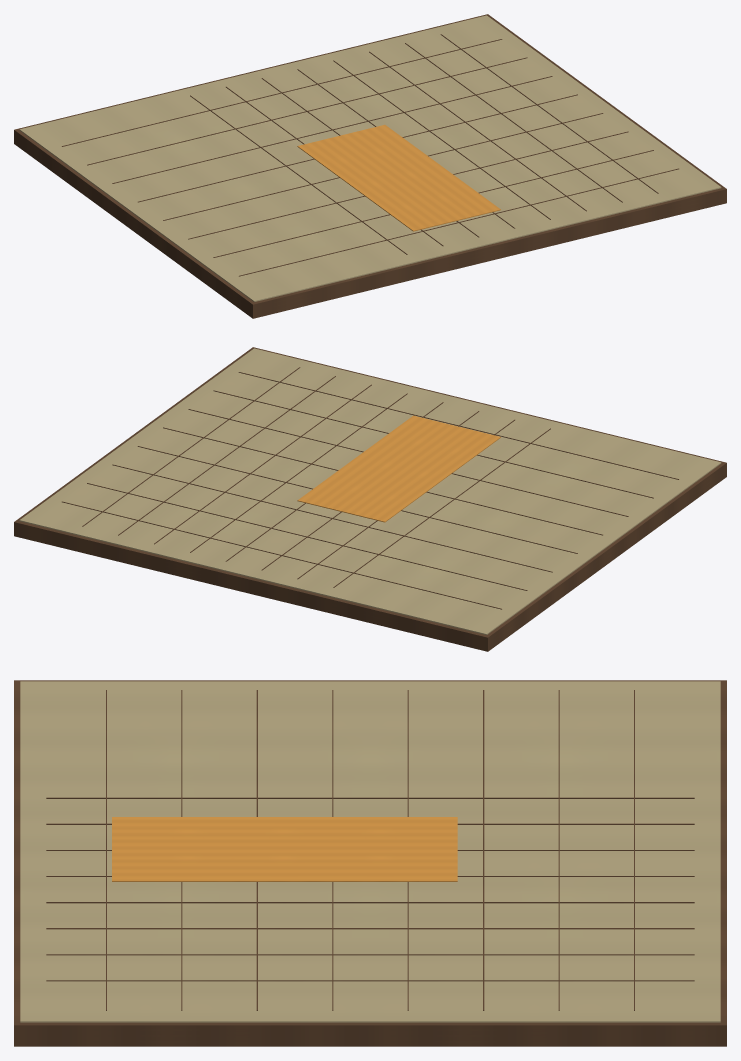
The model's file is atlas100-s012-a07.lod1.glb.
3 renders of one model, top to bottom at view 1: azimuth 30°, elevation 25°; view 2: azimuth 150°, elevation 25°; view 3: azimuth 270°, elevation 25°, orthographic. The views are drawn at different scales.
Visible parts, largest first — view 1: atlas100-s012-a07:part-001, atlas100-s012-a07:part-000, atlas100-s012-a07:part-021, atlas100-s012-a07:part-020, atlas100-s012-a07:part-013, atlas100-s012-a07:part-014, atlas100-s012-a07:part-015, atlas100-s012-a07:part-019, atlas100-s012-a07:part-018, atlas100-s012-a07:part-017, atlas100-s012-a07:part-016; view 2: atlas100-s012-a07:part-001, atlas100-s012-a07:part-000, atlas100-s012-a07:part-021, atlas100-s012-a07:part-015, atlas100-s012-a07:part-013, atlas100-s012-a07:part-014, atlas100-s012-a07:part-020, atlas100-s012-a07:part-016, atlas100-s012-a07:part-018, atlas100-s012-a07:part-017, atlas100-s012-a07:part-019; view 3: atlas100-s012-a07:part-001, atlas100-s012-a07:part-000, atlas100-s012-a07:part-021, atlas100-s012-a07:part-005, atlas100-s012-a07:part-009, atlas100-s012-a07:part-010, atlas100-s012-a07:part-011, atlas100-s012-a07:part-012, atlas100-s012-a07:part-014, atlas100-s012-a07:part-015, atlas100-s012-a07:part-006.
Boxes of the visible parts, x1,y1,x2,y2 form: atlas100-s012-a07:part-001: (19,15,721,301); atlas100-s012-a07:part-000: (14,14,726,318); atlas100-s012-a07:part-021: (297,124,500,231); atlas100-s012-a07:part-020: (239,168,678,276); atlas100-s012-a07:part-013: (62,39,502,146); atlas100-s012-a07:part-014: (87,57,527,165); atlas100-s012-a07:part-015: (112,76,552,183); atlas100-s012-a07:part-019: (213,150,653,257); atlas100-s012-a07:part-018: (188,131,628,239); atlas100-s012-a07:part-017: (163,113,603,220); atlas100-s012-a07:part-016: (138,94,577,202); atlas100-s012-a07:part-001: (19,348,721,634); atlas100-s012-a07:part-000: (14,347,726,651); atlas100-s012-a07:part-021: (297,415,500,522); atlas100-s012-a07:part-015: (112,464,552,572); atlas100-s012-a07:part-013: (62,501,501,609); atlas100-s012-a07:part-014: (87,483,527,590); atlas100-s012-a07:part-020: (238,372,678,479); atlas100-s012-a07:part-016: (137,446,577,553); atlas100-s012-a07:part-018: (188,409,628,516); atlas100-s012-a07:part-017: (163,427,602,535); atlas100-s012-a07:part-019: (213,390,653,498); atlas100-s012-a07:part-001: (20,681,720,1022); atlas100-s012-a07:part-000: (14,680,726,1046); atlas100-s012-a07:part-021: (112,817,457,881); atlas100-s012-a07:part-005: (46,797,694,798); atlas100-s012-a07:part-009: (46,902,694,903); atlas100-s012-a07:part-010: (46,928,694,929); atlas100-s012-a07:part-011: (46,954,694,955); atlas100-s012-a07:part-012: (46,980,694,981); atlas100-s012-a07:part-014: (558,690,559,1010); atlas100-s012-a07:part-015: (483,690,484,1010); atlas100-s012-a07:part-006: (46,823,694,824).
Bounding box in the file's own units: 11.9 × 0.404 × 10.4.
3 materials, 3 textured.
